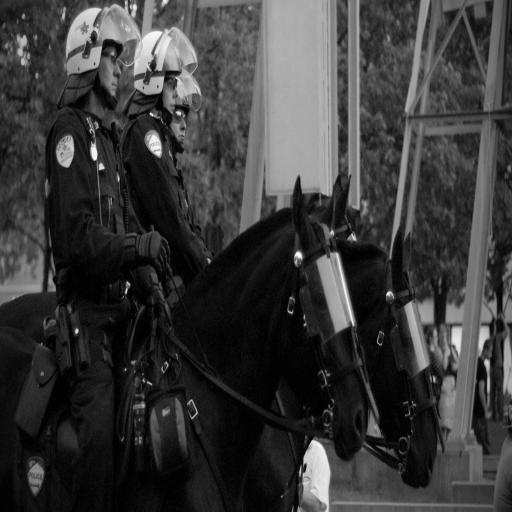horse: (0, 169, 373, 509), (230, 221, 443, 509)
